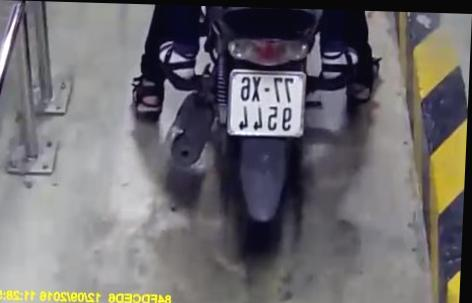License_Plate: (220, 65, 317, 138)
